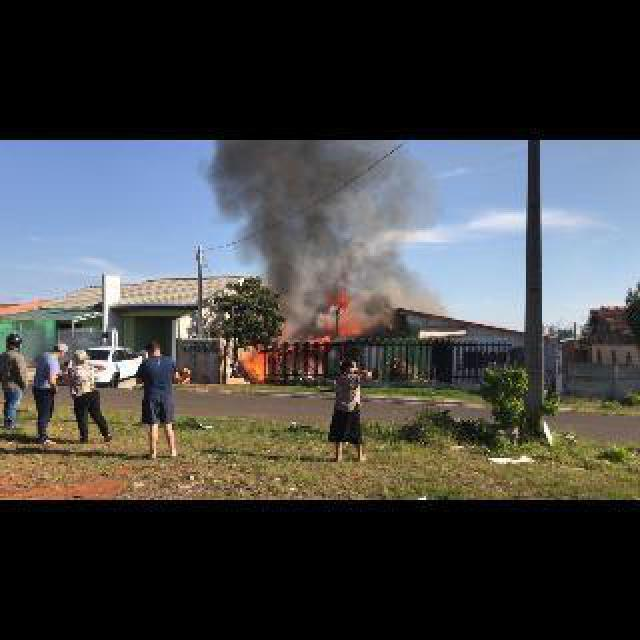Fire: (252, 352, 268, 380), (308, 332, 330, 340)
Smoke: (272, 140, 444, 332), (200, 140, 268, 270)
